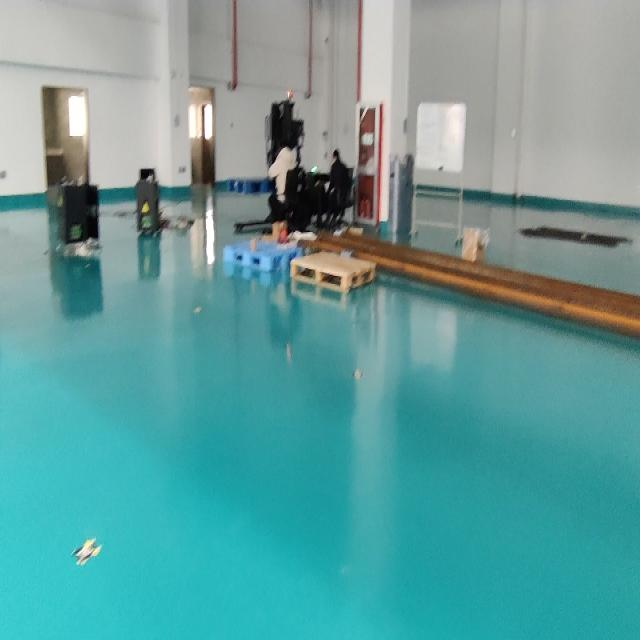euro: (291, 252, 374, 292)
